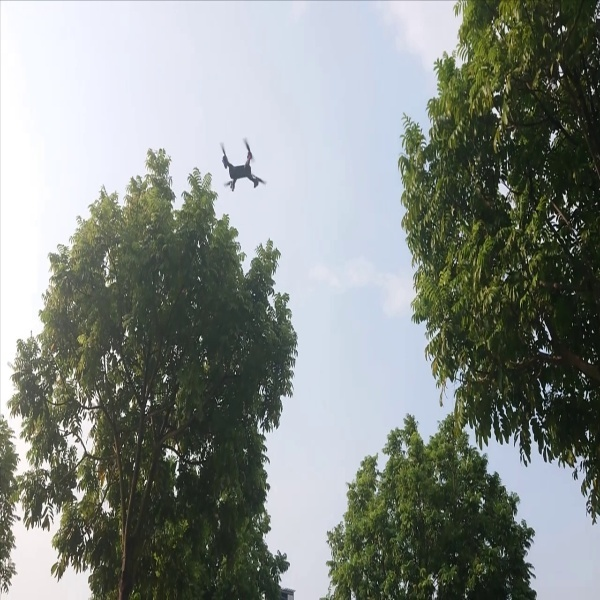drone: (216, 137, 274, 199)
